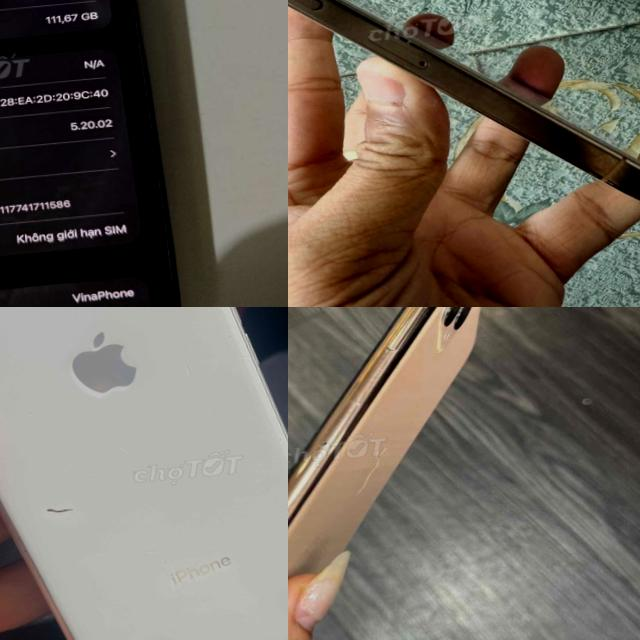gen_11: (288, 307, 556, 640)
gen_12_13: (0, 0, 195, 307)
gen_16: (288, 0, 640, 253)
gen_7_8: (0, 307, 288, 640)
